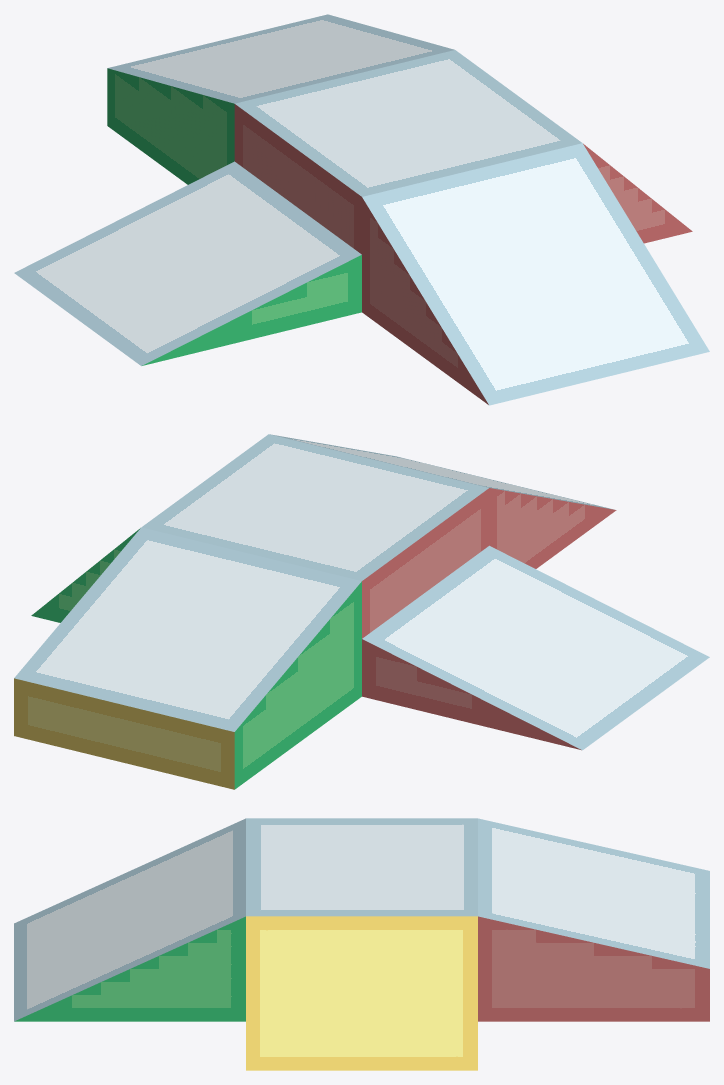
File: TestGridTiles.glb
3 renders of one model, top to bottom at view 1: azimuth 30°, elevation 25°; view 2: azimuth 150°, elevation 25°; view 3: azimuth 270°, elevation 25°, orthographic. The views are drawn at different scales.
Parts seen in each view (by area): view 1: Ramp, Ramp2, BaseTile, Ramp1, Ramp3; view 2: Ramp1, Ramp2, BaseTile, Ramp, Ramp3; view 3: Ramp1, Ramp3, Ramp, BaseTile.
Boxes of the visible parts, box(x1,y1,x2,y2) form: Ramp: box(362, 143, 709, 405); Ramp2: box(14, 161, 361, 365); BaseTile: box(234, 50, 581, 254); Ramp1: box(107, 14, 454, 184); Ramp3: box(583, 143, 692, 243); Ramp1: box(14, 527, 361, 789); Ramp2: box(362, 545, 709, 750); BaseTile: box(142, 434, 489, 638); Ramp: box(270, 434, 616, 568); Ramp3: box(31, 528, 140, 622); Ramp1: box(478, 818, 709, 1021); Ramp3: box(246, 916, 477, 1070); Ramp: box(14, 818, 245, 1021); BaseTile: box(246, 818, 477, 916).
Size of the model in its own units: 2.5 by 0.5 by 3.
Materials: 1 (1 with a texture image).
